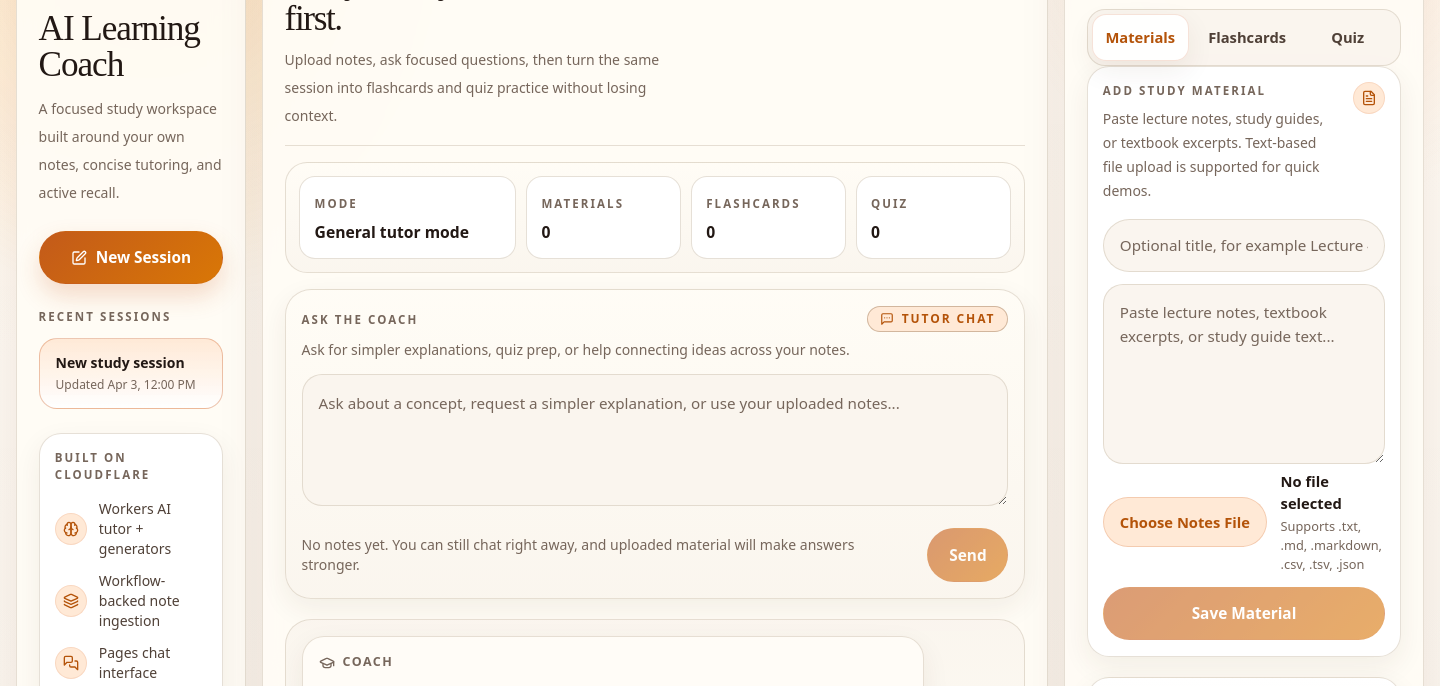
it: AI Learning Coach app › uploads study material and renders a streamed tutor answer
Expected: the heading "AI Learning Coach" is shown, [39, 11, 223, 83]
Type "Lecture 4 notes" into the field with placeholder "Optional title, for example Lecture 4 notes" at (1244, 246), box [1103, 219, 1385, 272]
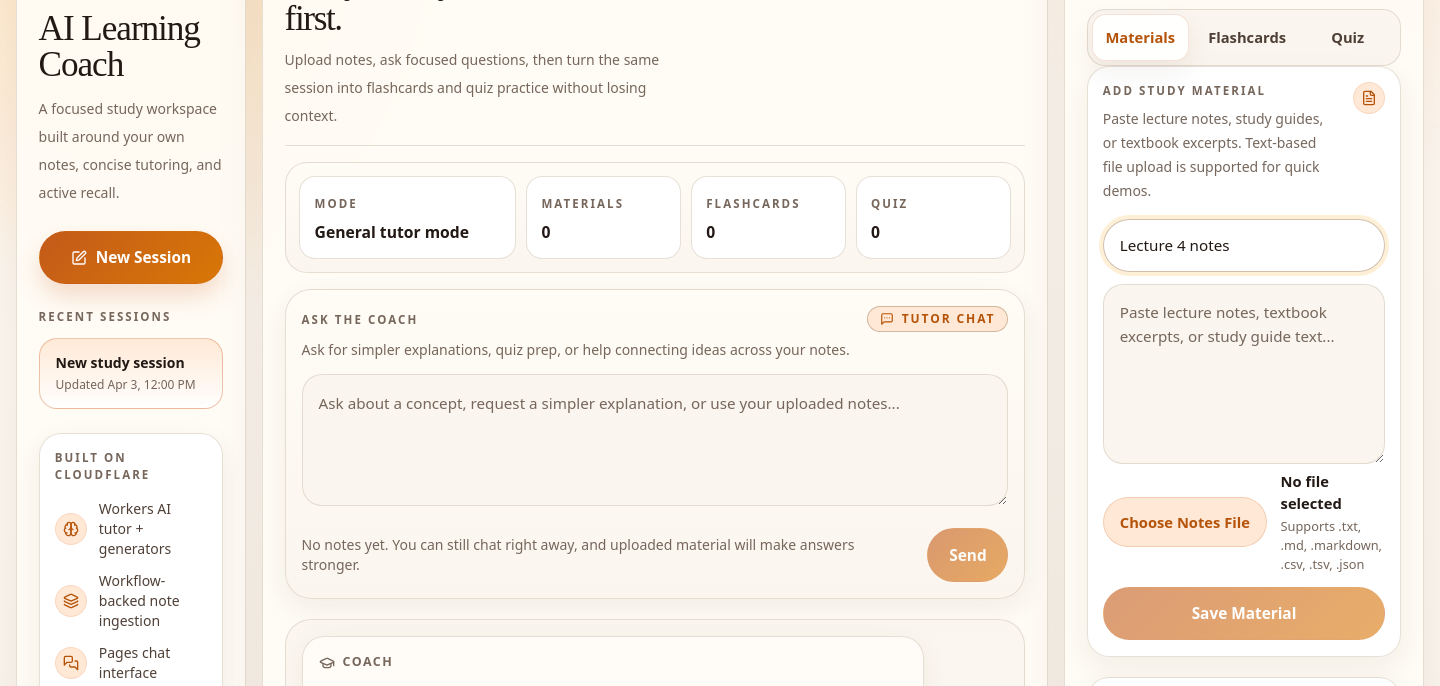
Type "Mitosis creates two identical daughter cells." into the text box with placeholder "Paste lecture notes, textbook excerpts, or study guide text..." at (1244, 374), box [1103, 284, 1385, 464]
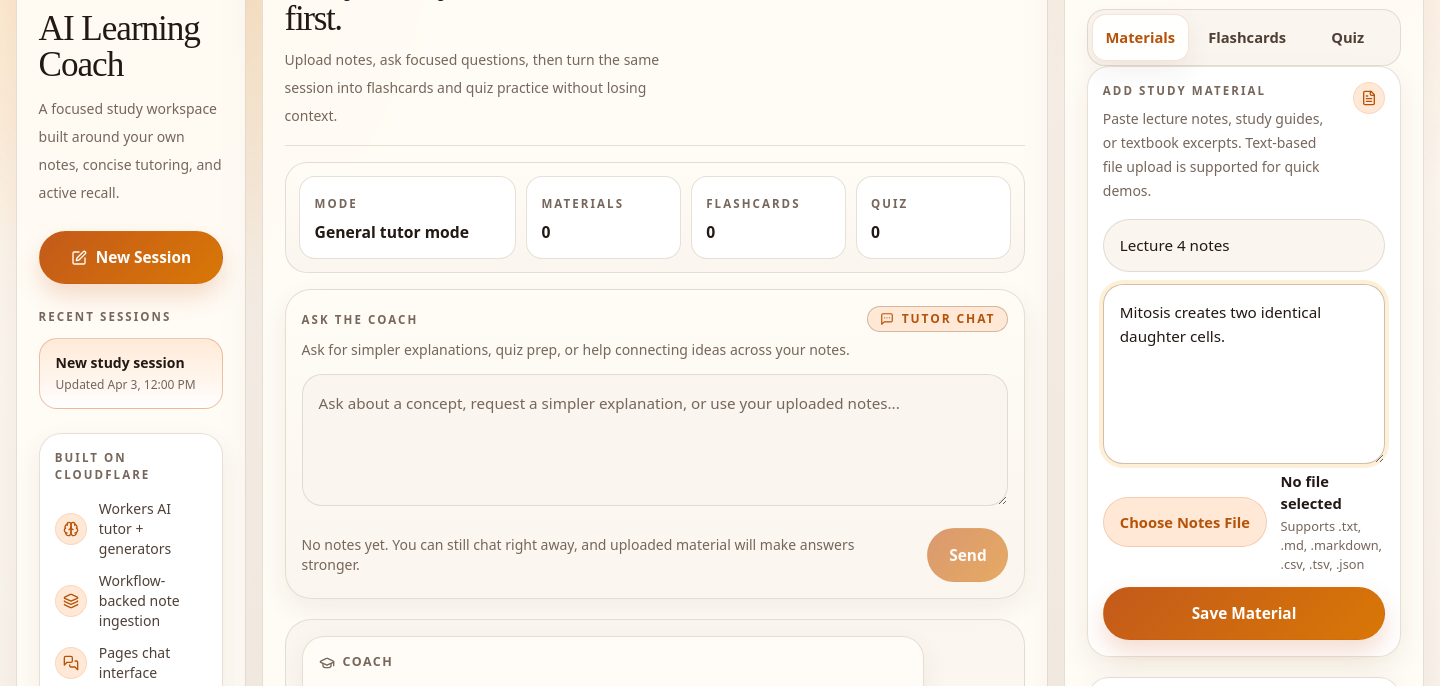
Click the button "Save Material" at (1244, 614), box [1103, 587, 1385, 640]
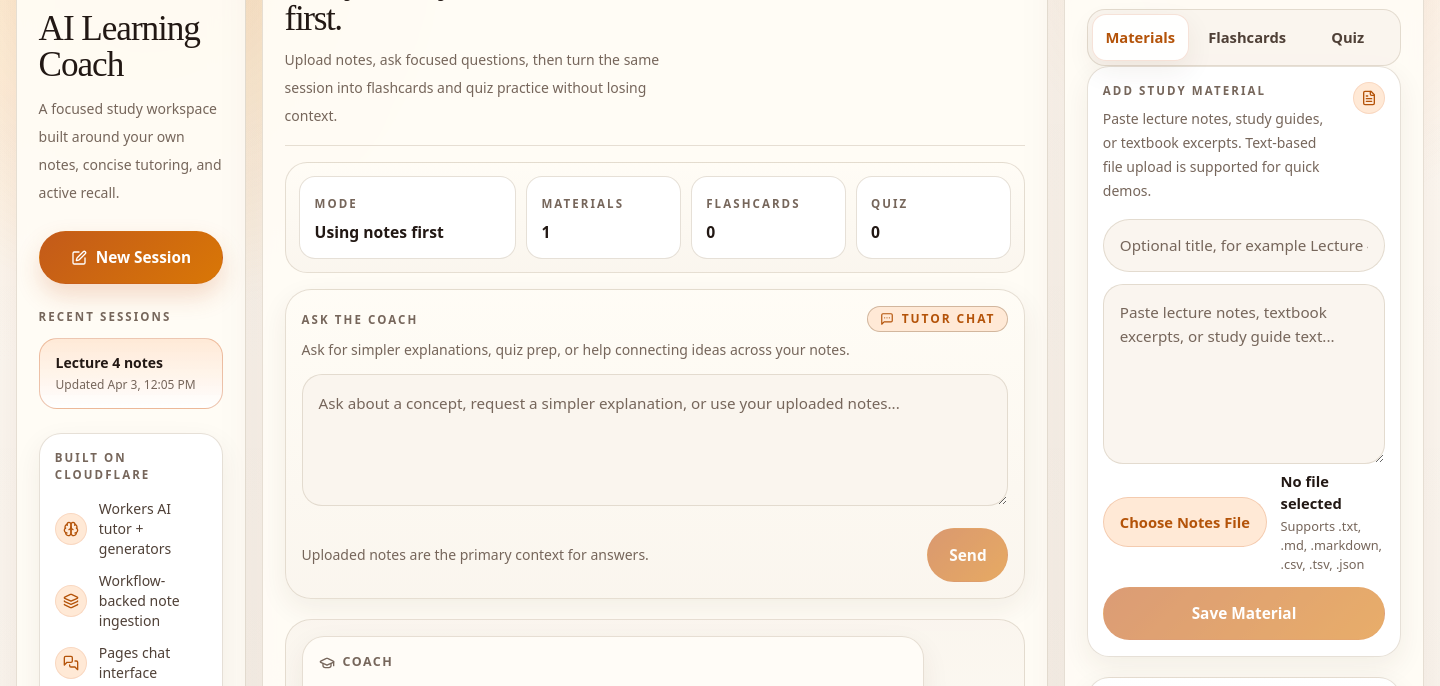
Type "Explain mitosis in simple terms." into the text box with placeholder "Ask about a concept, request a simpler explanation, or use your uploaded notes..." at (655, 440), box [302, 374, 1008, 506]
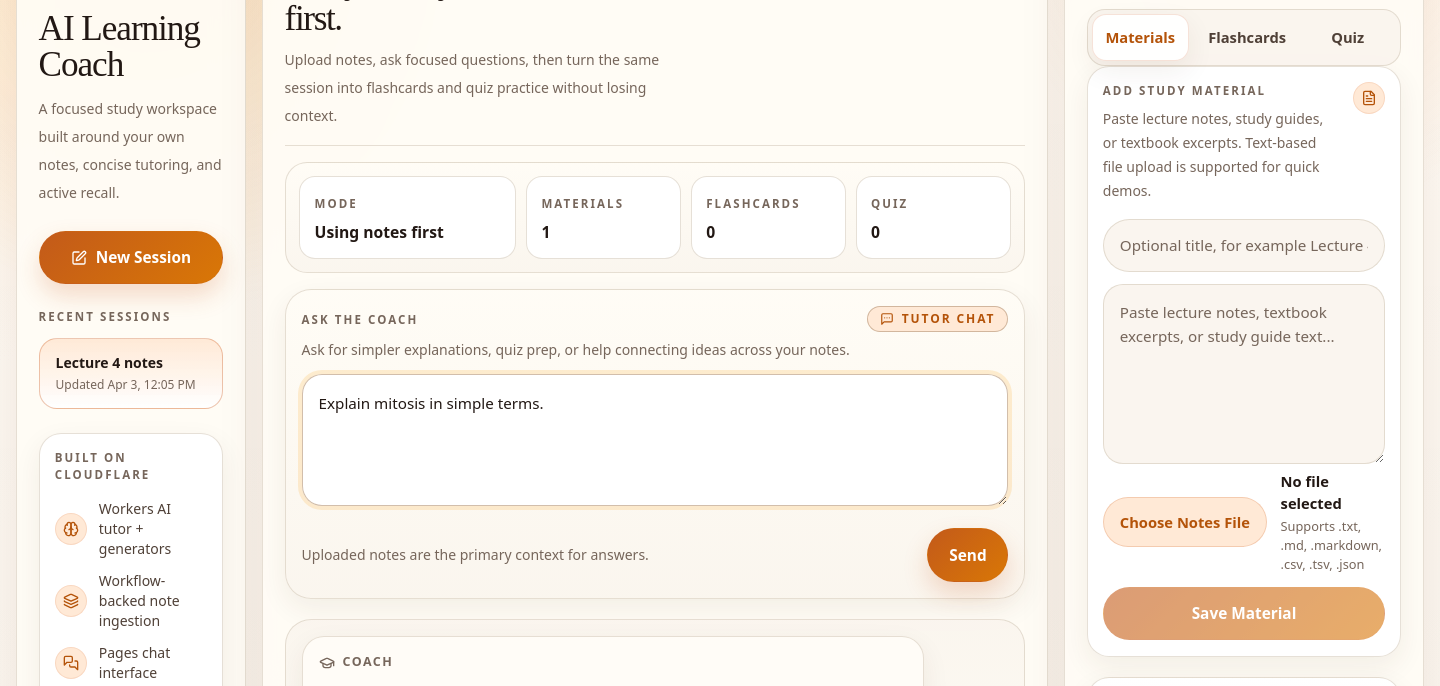
Click the button "Send" at (968, 555), box [928, 528, 1008, 582]
(page scrolled)
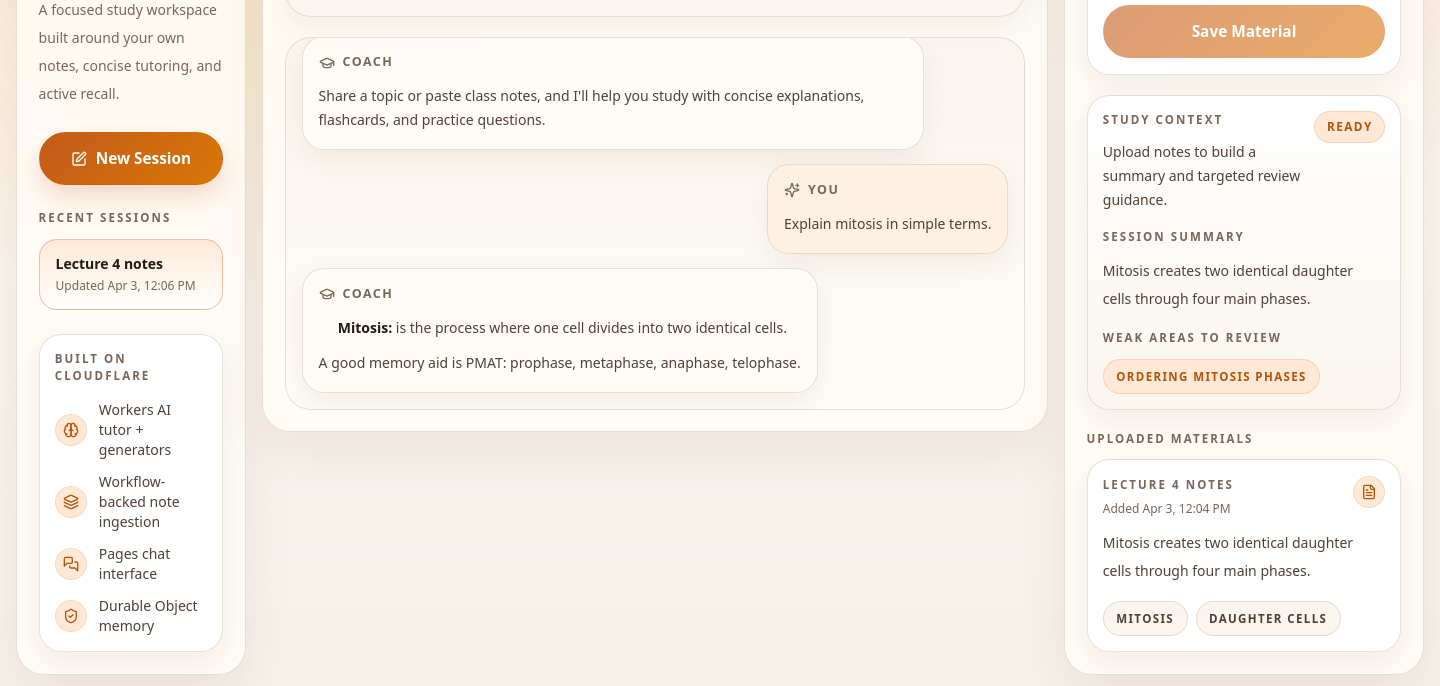
Now the text "PMAT: prophase, metaphase, anaphase, telophase" is shown, box [319, 353, 801, 372]
